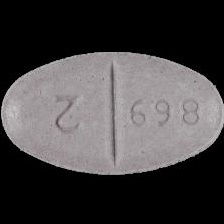42549-496: (0, 0, 224, 224)
